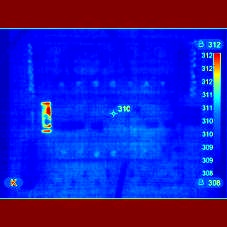Less: (43, 114, 52, 128)
